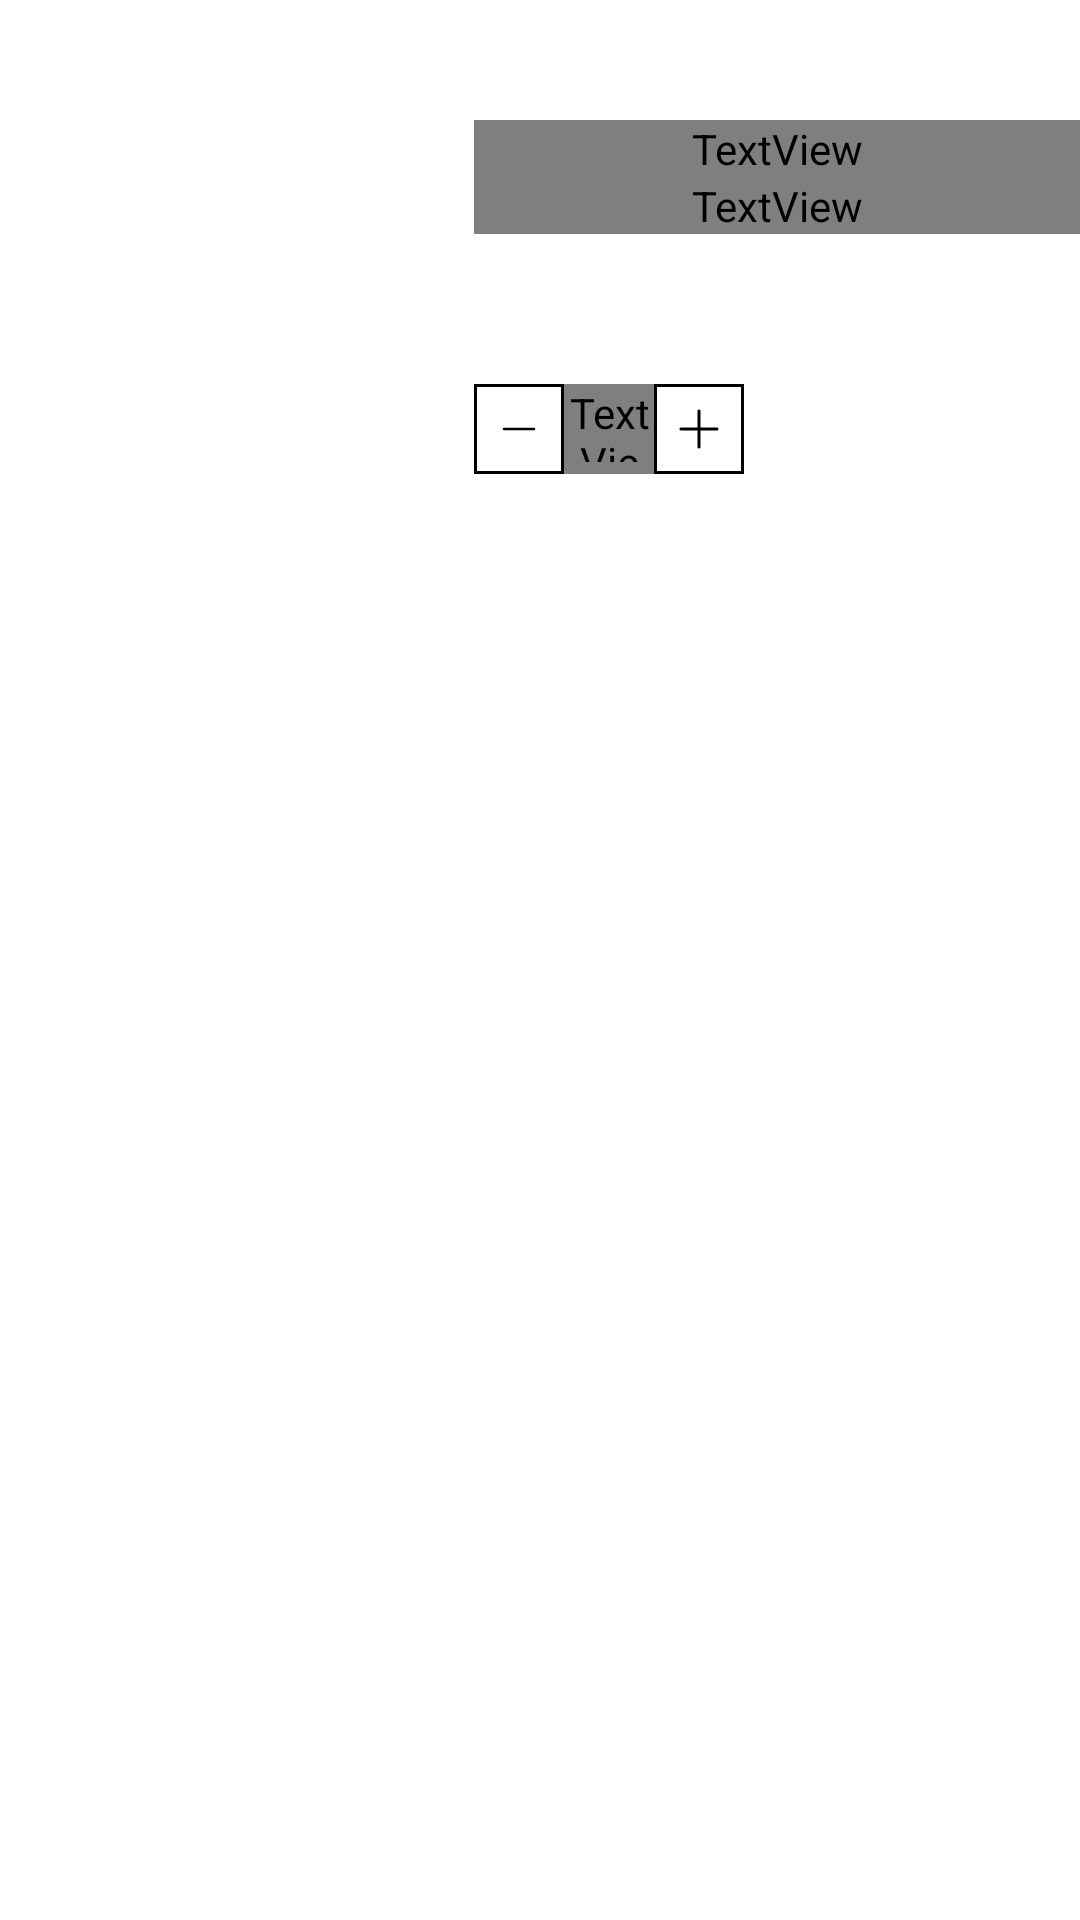

Icon click points for this 1080px x 1920px phone screenshot, format (x=x, y=y):
minus: (x=519, y=429)
plus: (x=699, y=429)
